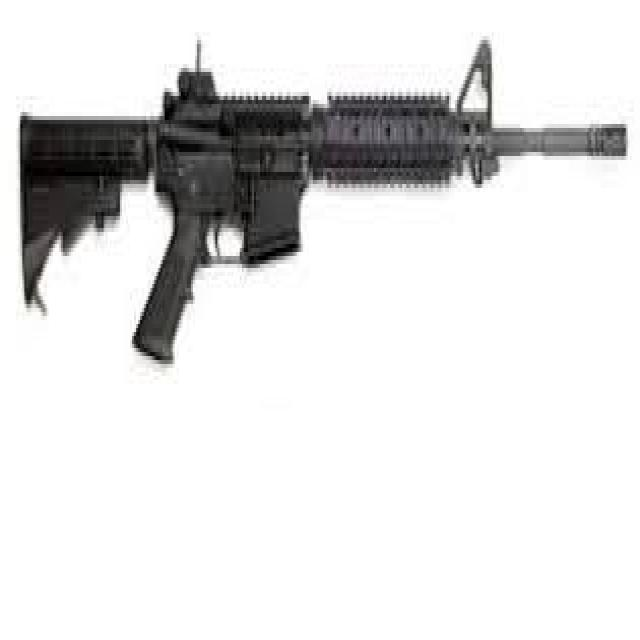rifle: (8, 30, 632, 363)
